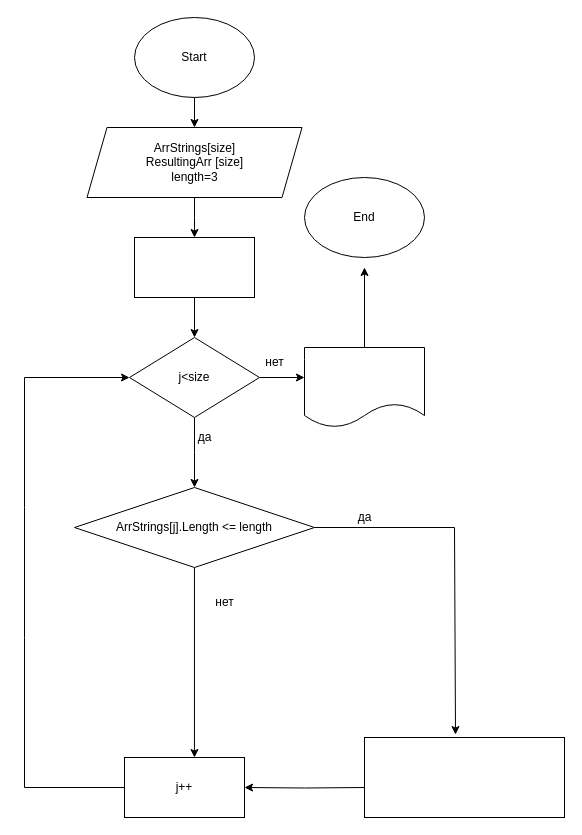
The diagram is 582 pixels wide and 835 high, and some of its shapes have lost their labels. The centre of each missing label's shape, as x and y in pixels:
"j=0 count=0" belongs at [194,267].
"ResultingArr" belongs at [364,387].
"ResultingArr[count]=ArrStrings[j] count++" belongs at [464,777].
